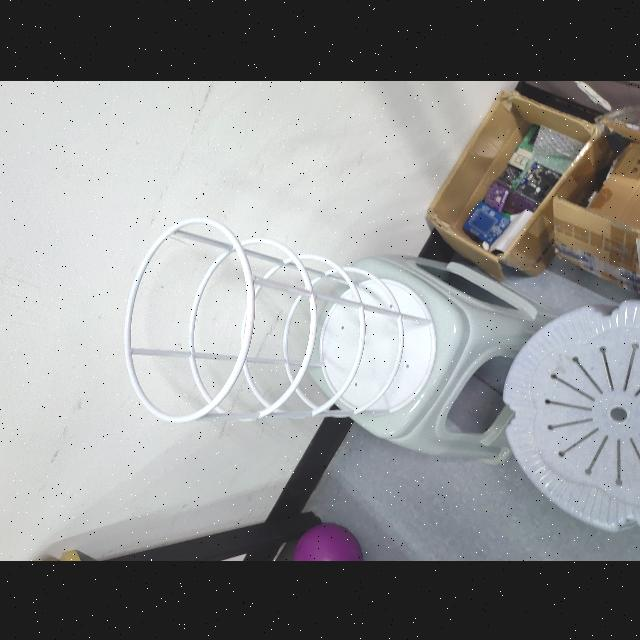S: (121, 215, 441, 427)
